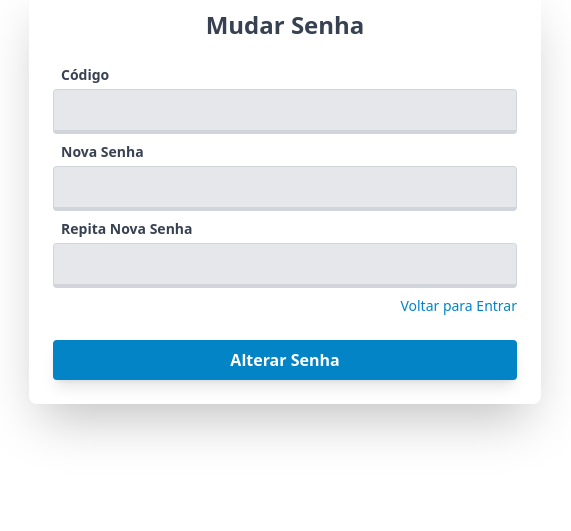
Test: ChangePassword › should submit and set alert error
Type "123" into the field with id "code" at x=285, y=112, box [53,89,517,134]
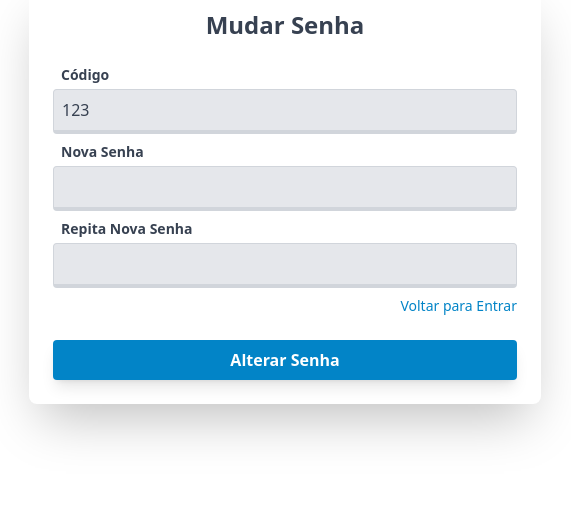
Type "456" into the password field with id "newpassword" at x=285, y=188, box [53,166,517,211]
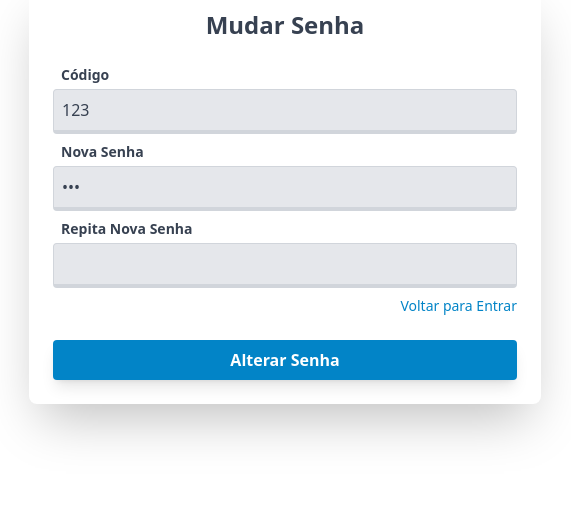
Type "456" into the password field with id "repeatnewpassword" at x=285, y=266, box [53,243,517,288]
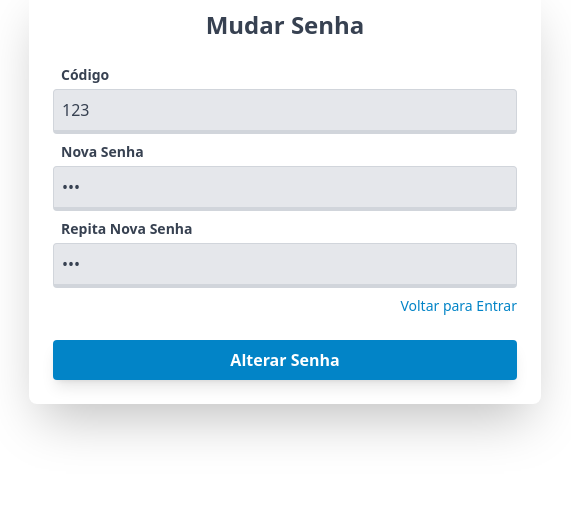
Click the button "Alterar Senha" at x=285, y=360, box [53,340,517,380]
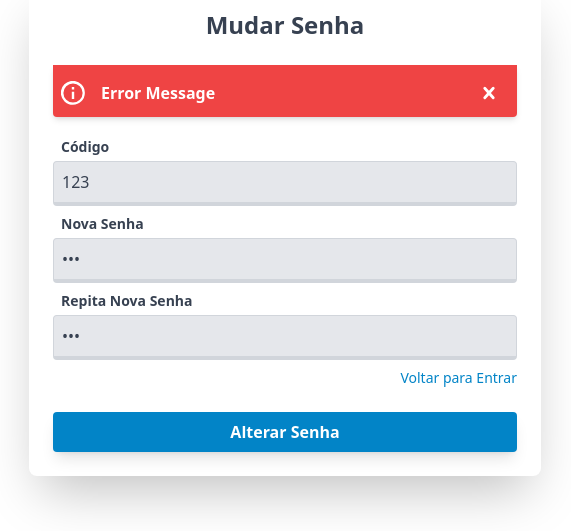
Expected: the text "Error Message" is shown, [101,77,215,109]
